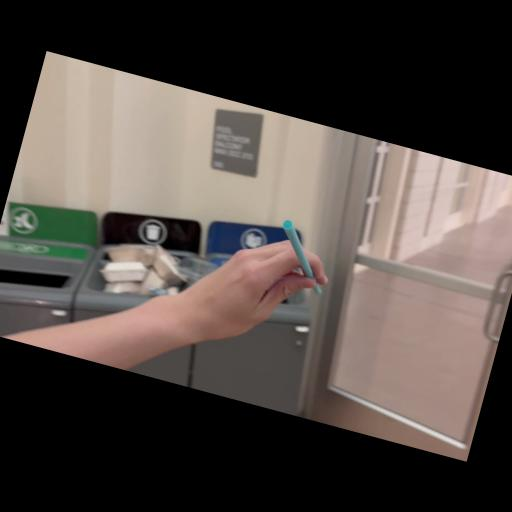straw: (268, 219, 337, 295)
